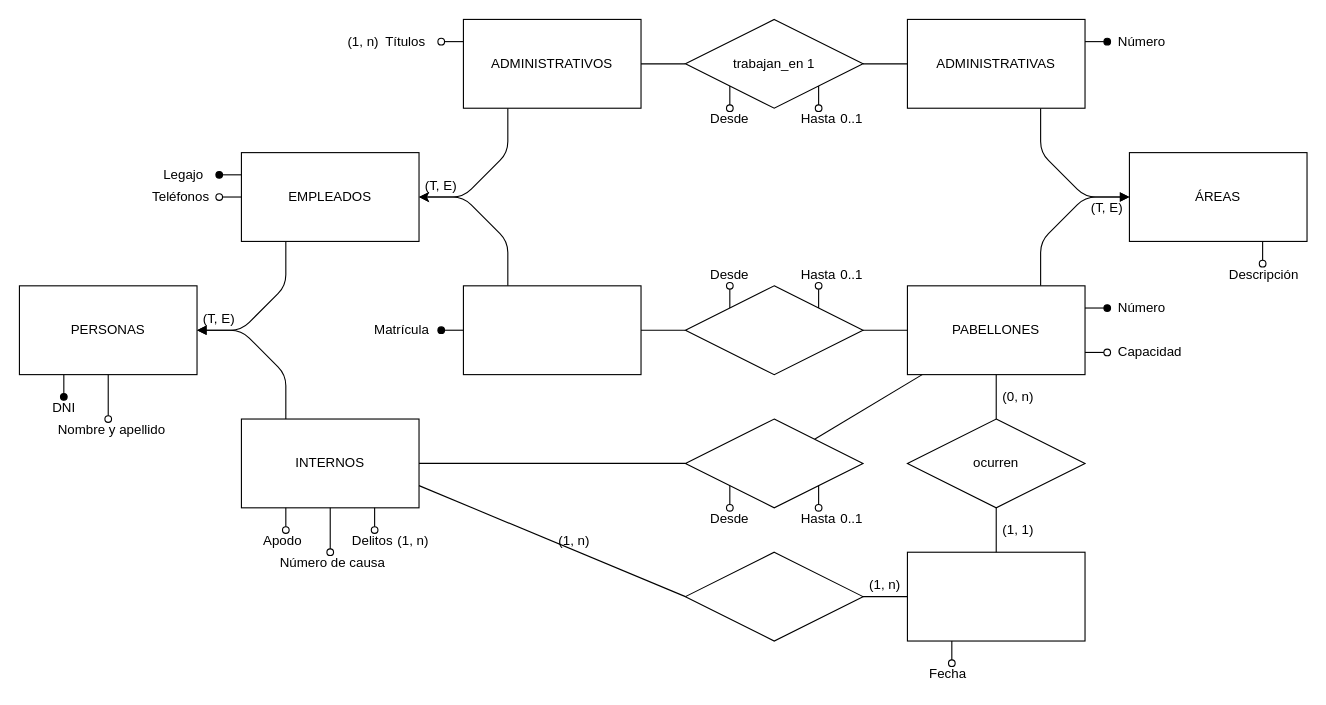
Image size: 1326x705. Some labels were removed from this diagram. The shapes that lost their labels are listed below. From the top down, each one's box as (x1, y1, x2, y2) in pixels, then its label:
(462, 285, 641, 375): PENITENCIARIOS
(684, 285, 863, 375): trabajan_en 2
(684, 418, 863, 508): reciden_en
(684, 551, 863, 641): registran
(906, 551, 1085, 641): INCIDENTES
